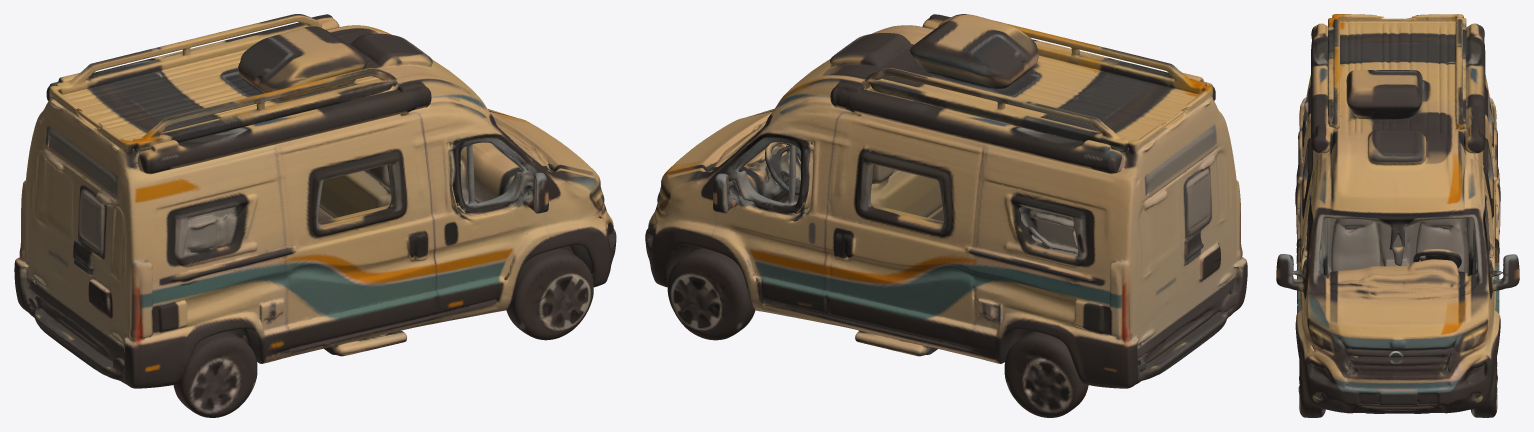
File: camper_van_tripo.glb
3 views of the same model, side by side, from view 1: azimuth 30°, elevation 25°; view 2: azimuth 150°, elevation 25°; view 3: azimuth 270°, elevation 25° (orthographic). The views are drawn at different scales.
Visible parts, largest first — view 1: tripo_node_fd2b1531-bc14-4ac2-97ff-8fa803761f7d; view 2: tripo_node_fd2b1531-bc14-4ac2-97ff-8fa803761f7d; view 3: tripo_node_fd2b1531-bc14-4ac2-97ff-8fa803761f7d.
Boxes of the visible parts, x1=… form: tripo_node_fd2b1531-bc14-4ac2-97ff-8fa803761f7d: x1=14, y1=14, x2=616, y2=417; tripo_node_fd2b1531-bc14-4ac2-97ff-8fa803761f7d: x1=645, y1=14, x2=1247, y2=417; tripo_node_fd2b1531-bc14-4ac2-97ff-8fa803761f7d: x1=1276, y1=14, x2=1519, y2=417.
Size of the model in its own units: 0.9999 by 0.5684 by 0.4906.
Materials: 1 (1 with a texture image).
